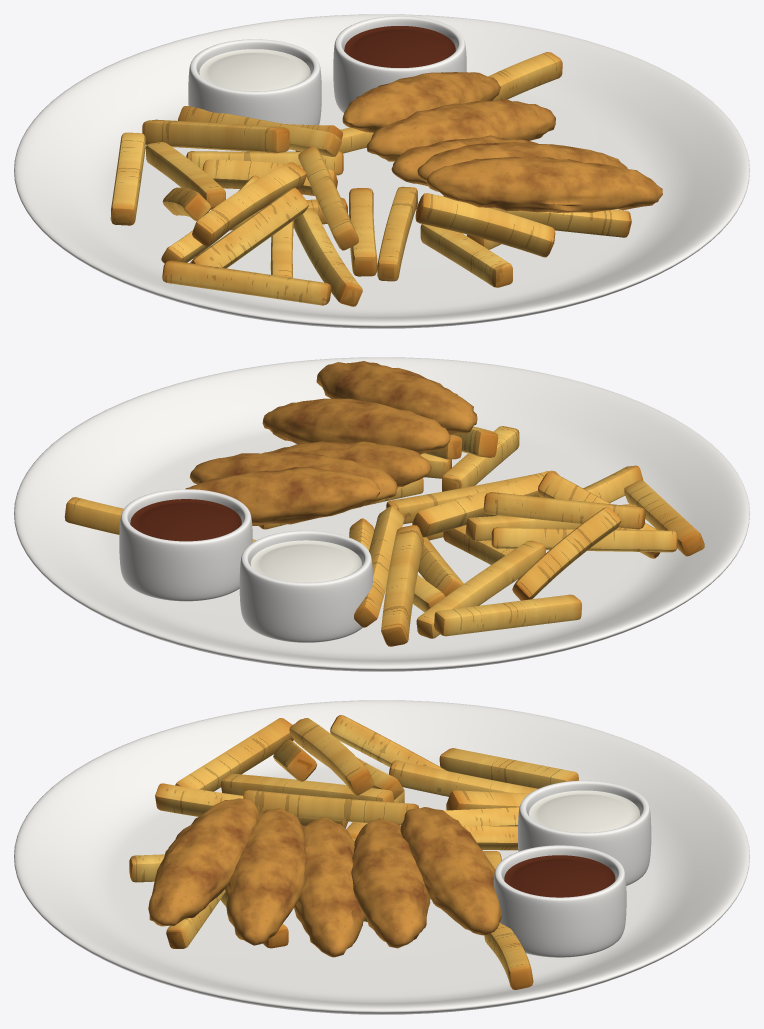
The model's file is chicken-strips.glb.
The picture shows the model from 3 angles, top to bottom: view 1: azimuth 30°, elevation 25°; view 2: azimuth 150°, elevation 25°; view 3: azimuth 270°, elevation 25°; orthographic projection.
Parts seen in each view (by area): view 1: base, fries, strips, ranch, bbq-sauce; view 2: base, fries, strips, ranch, bbq-sauce; view 3: base, strips, fries, bbq-sauce, ranch.
Boxes of the visible parts, bbox=[...] form: base: bbox=[14, 14, 749, 328]; fries: bbox=[110, 52, 631, 306]; strips: bbox=[342, 72, 662, 212]; ranch: bbox=[199, 49, 310, 91]; bbq-sauce: bbox=[344, 26, 455, 67]; base: bbox=[14, 357, 749, 671]; fries: bbox=[64, 426, 704, 646]; strips: bbox=[185, 361, 477, 525]; ranch: bbox=[250, 540, 361, 582]; bbq-sauce: bbox=[130, 499, 241, 541]; base: bbox=[14, 700, 749, 1014]; strips: bbox=[148, 798, 501, 957]; fries: bbox=[129, 715, 578, 989]; bbq-sauce: bbox=[504, 855, 615, 897]; ranch: bbox=[529, 790, 640, 832].
Bounding box in the file's own units: 0.2979 × 0.0476 × 0.2979.
11 materials, 6 textured.
